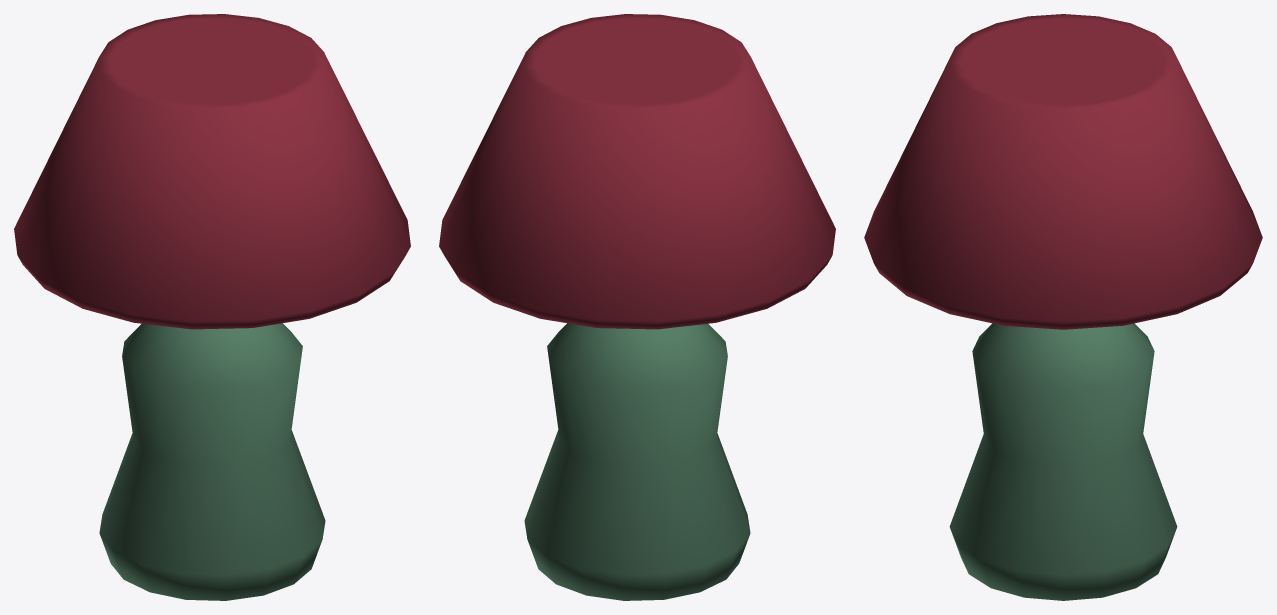
File: table-lamp.glb
The picture shows the model from 3 angles, left to right: view 1: azimuth 30°, elevation 25°; view 2: azimuth 150°, elevation 25°; view 3: azimuth 270°, elevation 25°; orthographic projection.
Parts seen in each view (by area): view 1: table-lamp; view 2: table-lamp; view 3: table-lamp.
Part boxes in pixels (x1,y1,x2,y2): table-lamp: (14, 14, 410, 600); table-lamp: (439, 14, 835, 600); table-lamp: (864, 14, 1262, 600).
Size of the model in its own units: 0.35 by 0.48 by 0.35.
